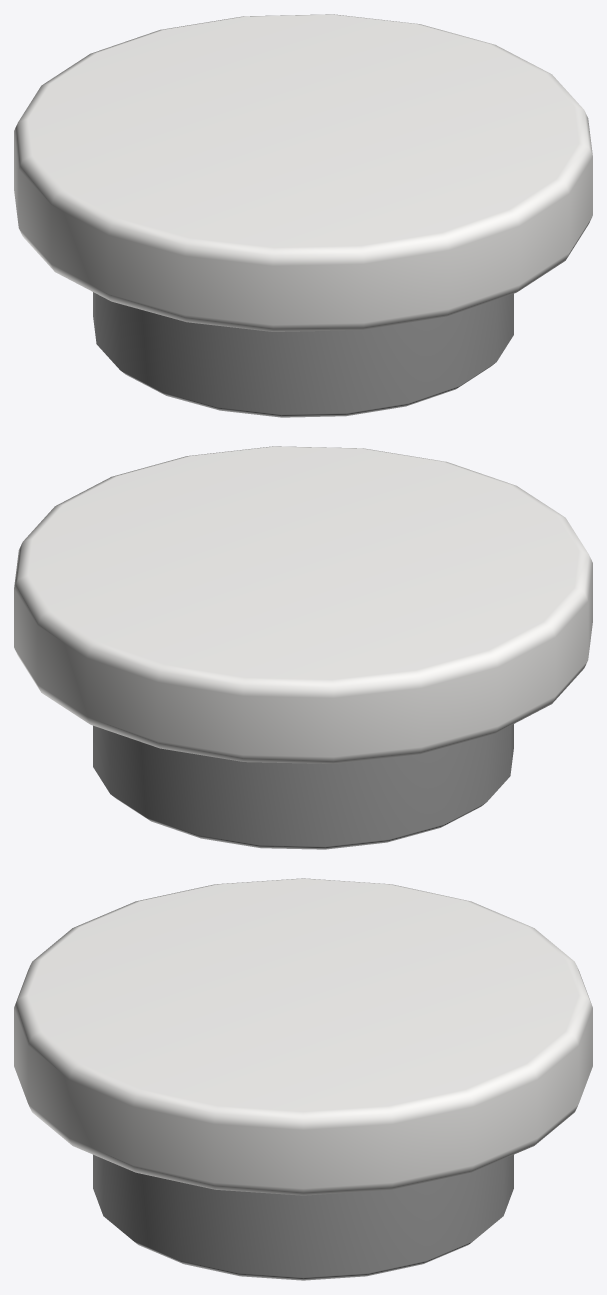
File: Table_7.glb
3 renders of one model, top to bottom at view 1: azimuth 30°, elevation 25°; view 2: azimuth 150°, elevation 25°; view 3: azimuth 270°, elevation 25°, orthographic.
Parts seen in each view (by area): view 1: Table_7; view 2: Table_7; view 3: Table_7.
Part boxes in pixels (left/top/right/bottom): Table_7: left=14, top=14, right=592, bottom=417; Table_7: left=14, top=446, right=592, bottom=849; Table_7: left=14, top=878, right=592, bottom=1280.
Bounding box in the file's own units: 1.14 × 0.4317 × 1.14.
1 material, 1 textured.
